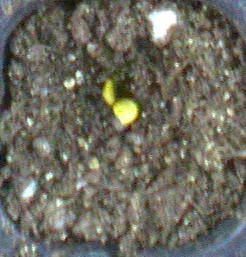chilli seed: (112, 99, 137, 125), (102, 79, 114, 104)
